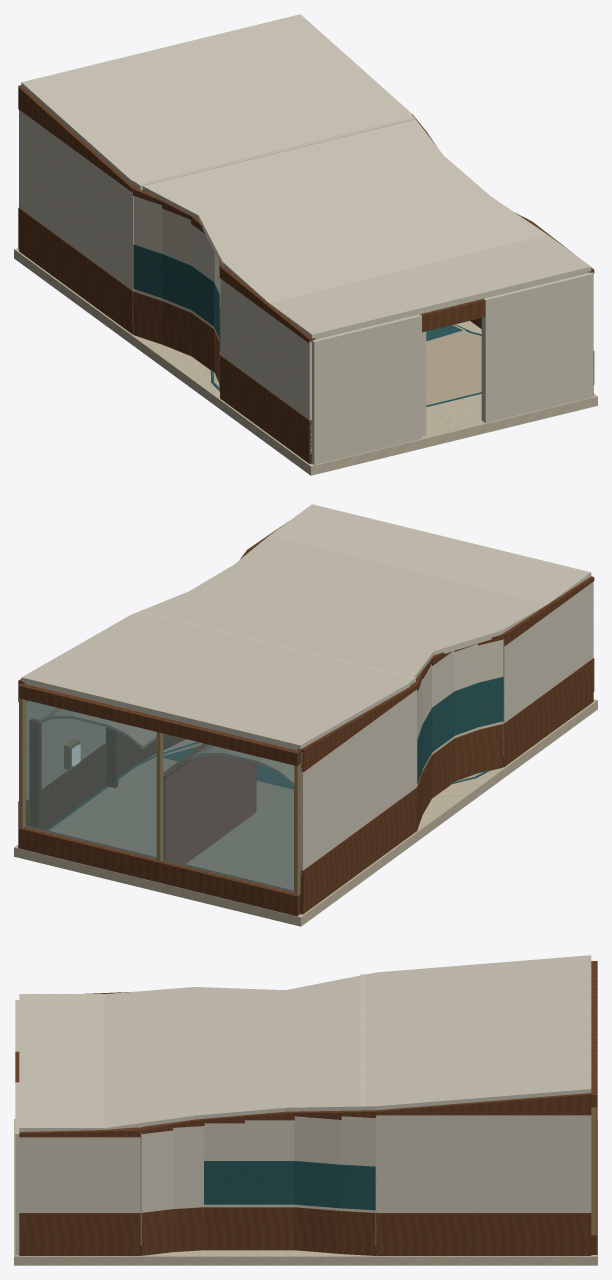
The model's file is shell.glb.
3 views of the same model, one above another, from view 1: azimuth 30°, elevation 25°; view 2: azimuth 150°, elevation 25°; view 3: azimuth 270°, elevation 25° (orthographic).
Parts seen in each view (by area): view 1: SUI_Runtime_ivory_enamel, SUI_Runtime_warm_walnut, SUI_Runtime_warm_stone, SUI_Runtime_teal_weave, SUI_Runtime_oatmeal_weave; view 2: SUI_Runtime_ivory_enamel, SUI_Runtime_warm_walnut, SUI_Runtime_SuiteHospitalityGlass, SUI_Runtime_oatmeal_weave, SUI_Runtime_clay_weave, SUI_Runtime_warm_stone, SUI_Runtime_teal_weave, SUI_Runtime_champagne_metal; view 3: SUI_Runtime_ivory_enamel, SUI_Runtime_warm_walnut, SUI_Runtime_teal_weave, SUI_Runtime_warm_stone, SUI_Runtime_champagne_metal.
Part boxes in pixels (x1,y1,x2,y2): SUI_Runtime_ivory_enamel: [19, 14, 593, 464]; SUI_Runtime_warm_walnut: [18, 85, 594, 463]; SUI_Runtime_warm_stone: [14, 248, 597, 475]; SUI_Runtime_teal_weave: [133, 244, 481, 406]; SUI_Runtime_oatmeal_weave: [213, 324, 481, 405]; SUI_Runtime_ivory_enamel: [19, 504, 593, 885]; SUI_Runtime_warm_walnut: [18, 522, 594, 916]; SUI_Runtime_SuiteHospitalityGlass: [24, 700, 294, 892]; SUI_Runtime_oatmeal_weave: [39, 708, 482, 890]; SUI_Runtime_clay_weave: [163, 756, 256, 863]; SUI_Runtime_warm_stone: [14, 699, 597, 926]; SUI_Runtime_teal_weave: [46, 677, 503, 830]; SUI_Runtime_champagne_metal: [19, 698, 300, 895]; SUI_Runtime_ivory_enamel: [15, 955, 591, 1254]; SUI_Runtime_warm_walnut: [15, 961, 597, 1255]; SUI_Runtime_teal_weave: [204, 1161, 375, 1210]; SUI_Runtime_warm_stone: [14, 1119, 597, 1265]; SUI_Runtime_champagne_metal: [591, 1107, 596, 1234].
Bounding box in the file's own units: 7.2 × 4.26 × 12.9.
9 materials, 7 textured.
